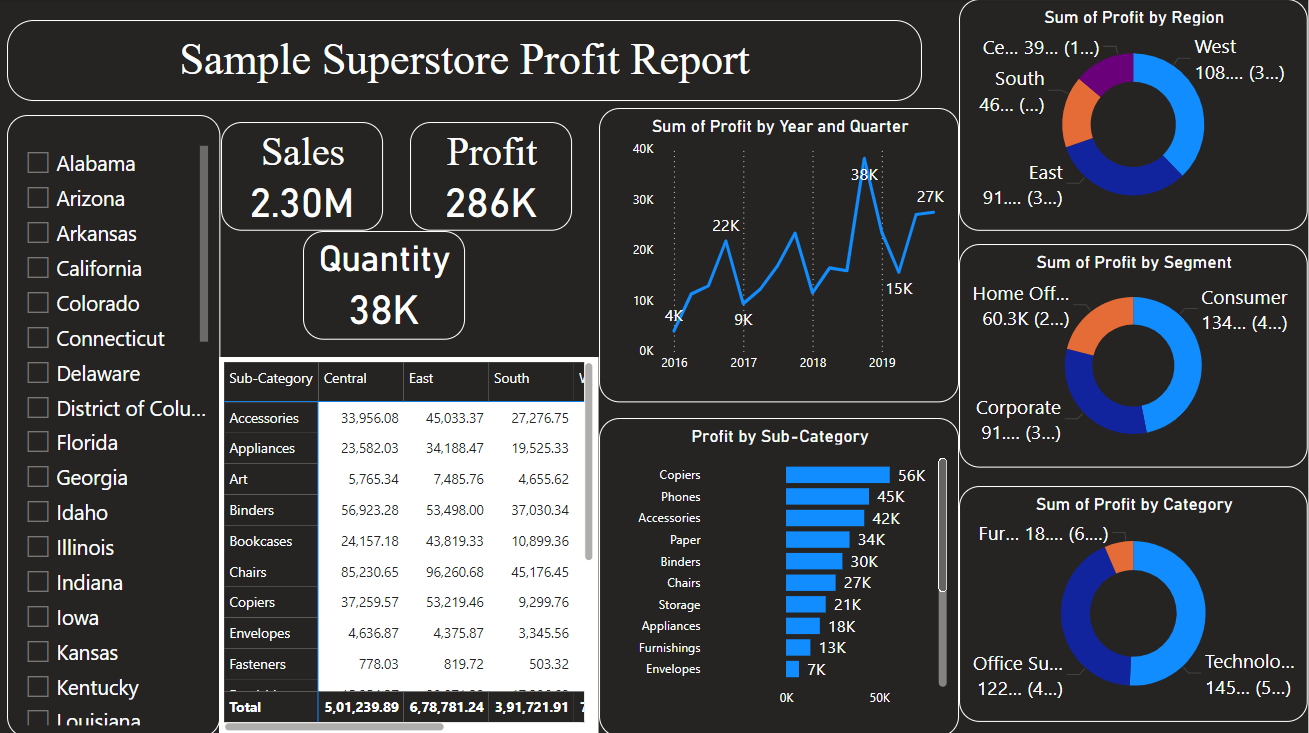

The dashboard page shown, as its layout file describes it:
{"tool":"powerbi","page":{"name":"SSPR-Dashboard","canvas":[1280,720],"ordinal":0},"visuals":[{"type":"textbox","box":[11.3,20.8,892,79.4],"z":0},{"type":"donutChart","fields":{"Category":["Orders.Category"],"Y":["Sum(Orders.Profit)"]},"box":[939.6,474.5,339.8,229.7],"z":1000},{"type":"donutChart","fields":{"Y":["Sum(Orders.Profit)"],"Category":["Orders.Segment"]},"box":[939.6,239.2,339.8,218.3],"z":2000},{"type":"donutChart","fields":{"Category":["Orders.Region"],"Y":["Sum(Orders.Profit)"]},"box":[939.6,0,339.8,225.9],"z":3000},{"type":"barChart","title":"Profit by Sub-Category","fields":{"Category":["Orders.Sub-Category"],"Y":["Sum(Orders.Profit)"]},"box":[588.4,408.1,351.2,311.3],"z":4000},{"type":"lineChart","fields":{"Category":["Orders.Order Date.Variation.Date Hierarchy.Year","Orders.Order Date.Variation.Date Hierarchy.Quarter","Orders.Order Date.Variation.Date Hierarchy.Month","Orders.Order Date.Variation.Date Hierarchy.Day"],"Y":["Sum(Orders.Profit)"]},"box":[588.4,106.3,351.2,286.6],"z":5000},{"type":"slicer","fields":{"Values":["Orders.State"]},"box":[11.3,113.4,207.9,606.6],"z":6000},{"type":"pivotTable","fields":{"Rows":["Orders.Sub-Category"],"Columns":["Orders.Region"],"Values":["Sum(Orders.Sales)"]},"box":[218.3,349.3,370.1,370.1],"z":7000},{"type":"card","title":"Sales","fields":{"Values":["Sum(Orders.Sales)"]},"box":[220.2,119.6,157.5,106.3],"z":7001},{"type":"card","title":"Profit","fields":{"Values":["Sum(Orders.Profit)"]},"box":[404.3,119.6,157.5,106.3],"z":7002},{"type":"card","title":"Quantity","fields":{"Values":["Sum(Orders.Quantity)"]},"box":[299.9,225.9,157.5,106.3],"z":7003}]}

Visuals, with their boxes in screenshot pixels (x1, y1, x2, y2), scaled from the page's 1280x720 canvas onto the 1309x733 screenshot:
textbox: l=12, t=21, r=924, b=102
donutChart - Orders.Category x Sum(Orders.Profit): l=961, t=483, r=1308, b=717
donutChart - Sum(Orders.Profit) x Orders.Segment: l=961, t=244, r=1308, b=466
donutChart - Orders.Region x Sum(Orders.Profit): l=961, t=0, r=1308, b=230
"Profit by Sub-Category" barChart: l=602, t=415, r=961, b=732
lineChart - Orders.Order Date.Variation.Date Hierarchy.Year x Orders.Order Date.Variation.Date Hierarchy.Quarter: l=602, t=108, r=961, b=400
slicer - Orders.State: l=12, t=115, r=224, b=732
pivotTable - Orders.Sub-Category x Orders.Region: l=223, t=356, r=602, b=732
"Sales" card: l=225, t=122, r=386, b=230
"Profit" card: l=413, t=122, r=575, b=230
"Quantity" card: l=307, t=230, r=468, b=338
